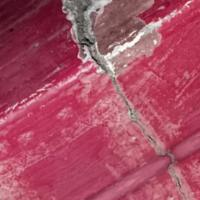crack: (56, 0, 186, 199)
